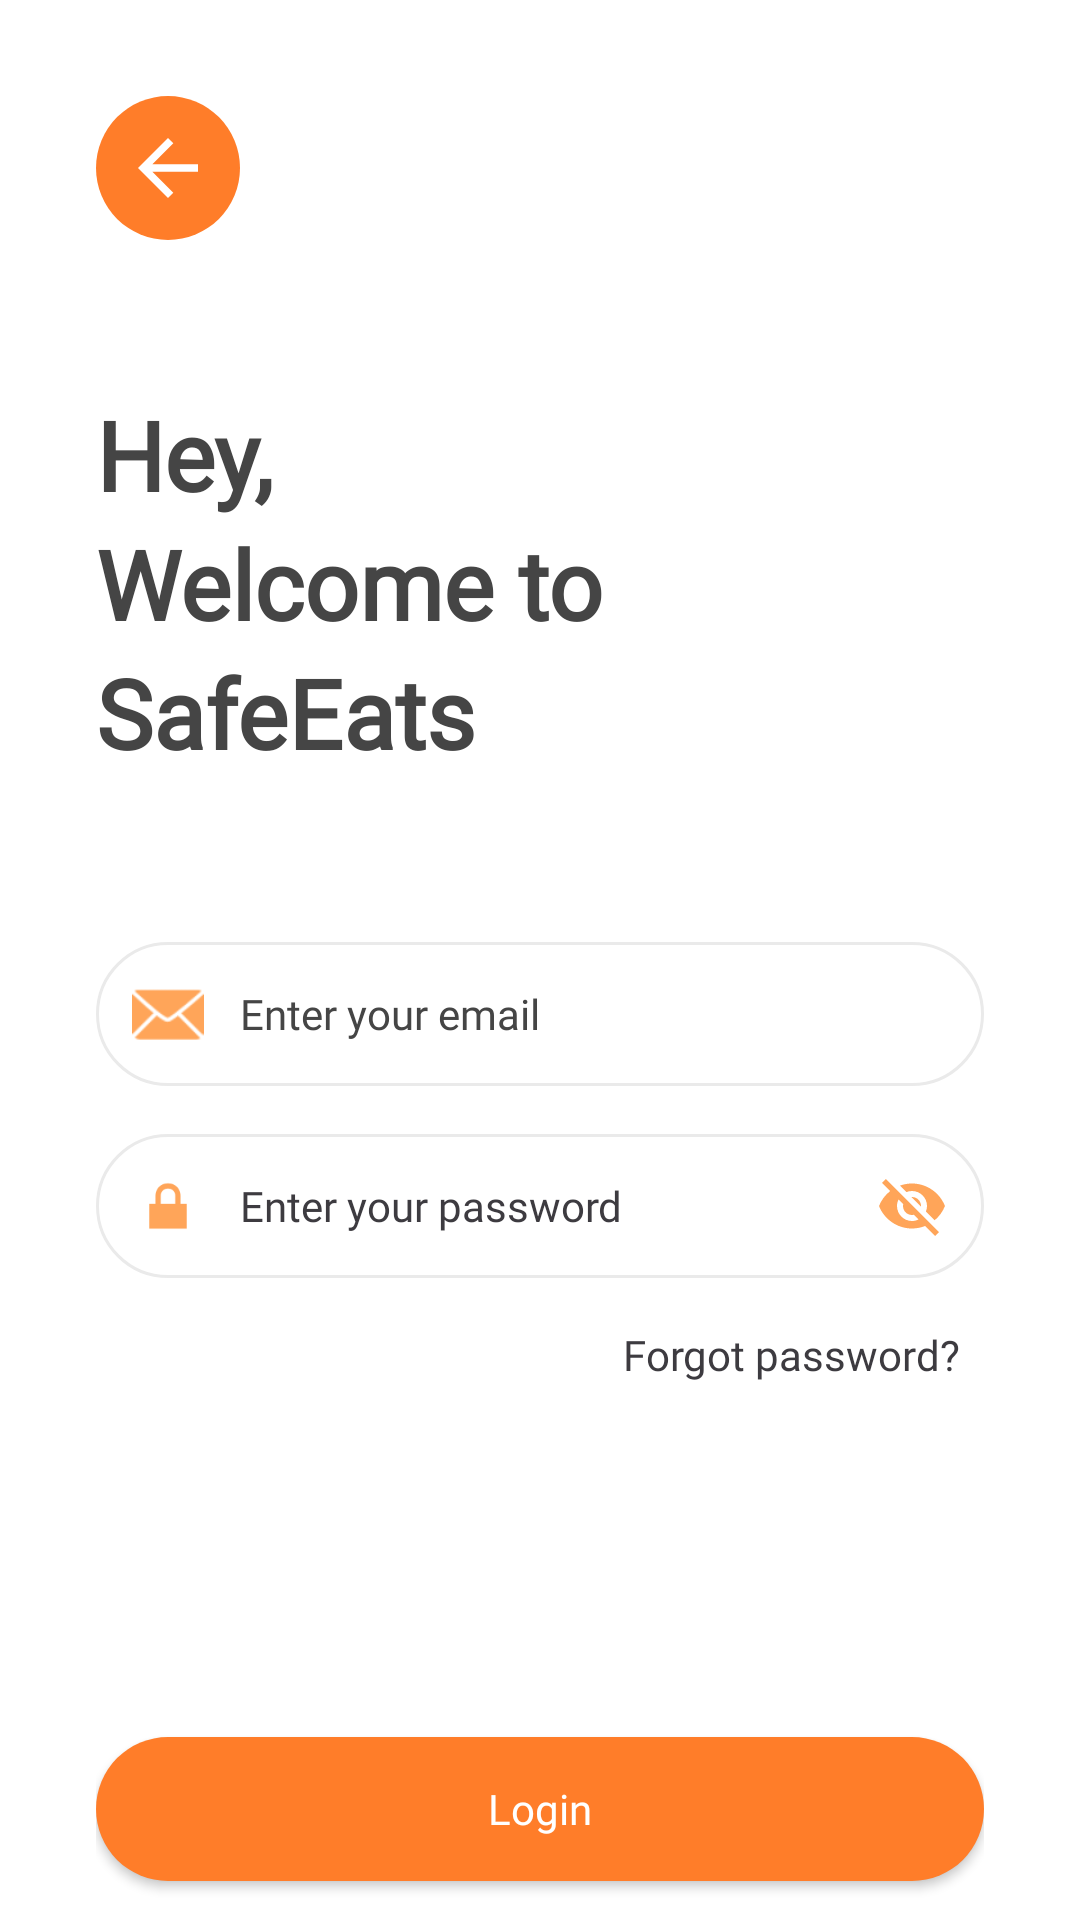

Screen size 1080w x 1920h. Icon name, then its box in pixels as {"x1": x1, "y1": y1, "x2": x2, "y2": y2}:
Go back: {"x1": 96, "y1": 96, "x2": 240, "y2": 240}
lock: {"x1": 149, "y1": 1183, "x2": 187, "y2": 1229}
Toggle password visibility: {"x1": 879, "y1": 1179, "x2": 945, "y2": 1236}
